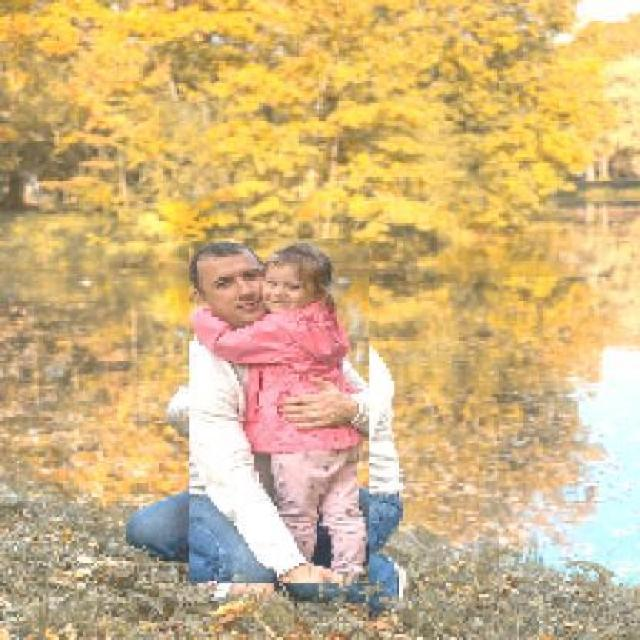child: (187, 238, 370, 584)
